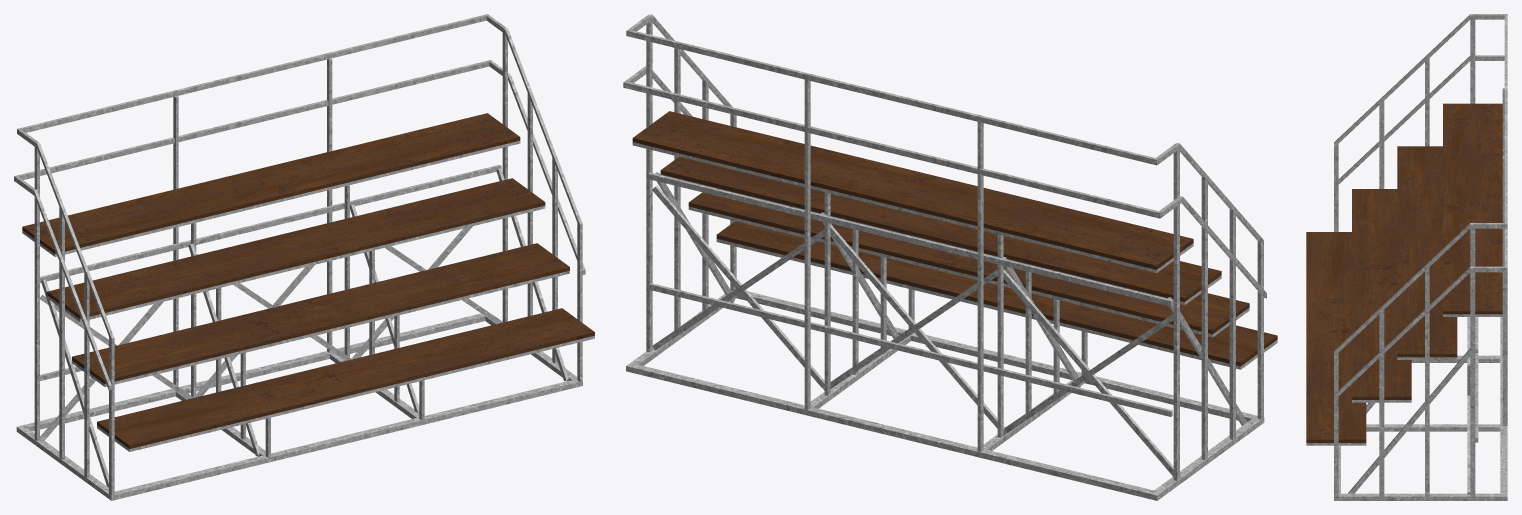
Rendered from bleacher.glb.
The picture shows the model from 3 angles, left to right: view 1: azimuth 30°, elevation 25°; view 2: azimuth 150°, elevation 25°; view 3: azimuth 270°, elevation 25°; orthographic projection. The views are drawn at different scales.
Parts seen in each view (by area): view 1: Seat_0, Frame_1; view 2: Frame_1, Seat_0; view 3: Seat_0, Frame_1.
Boxes of the visible parts, x1,y1,x2,y2 form: Seat_0: (22, 113, 594, 448); Frame_1: (14, 14, 594, 500); Frame_1: (623, 14, 1277, 500); Seat_0: (632, 111, 1277, 366); Seat_0: (1306, 103, 1502, 442); Frame_1: (1306, 14, 1507, 500).
Bounding box in the file's own units: 4.21 × 2.55 × 1.68.
2 materials, 2 textured.
